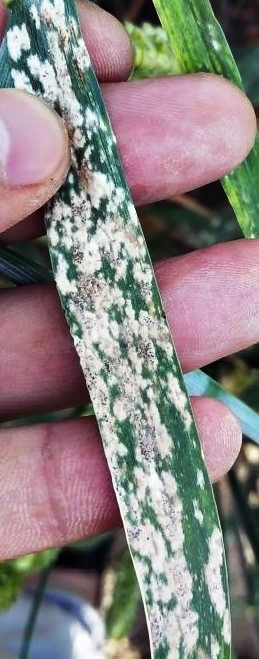Powdery Mildew: (48, 200, 243, 635)
